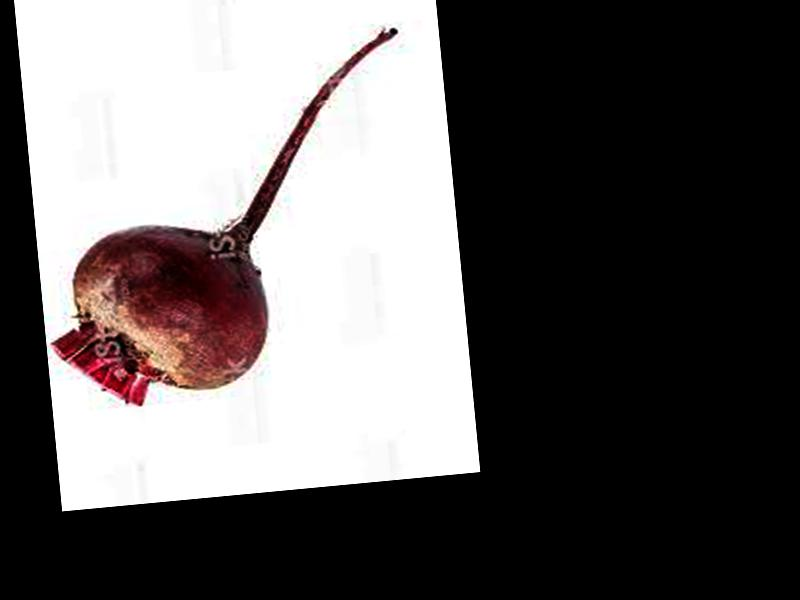Beet: (24, 27, 427, 411)
